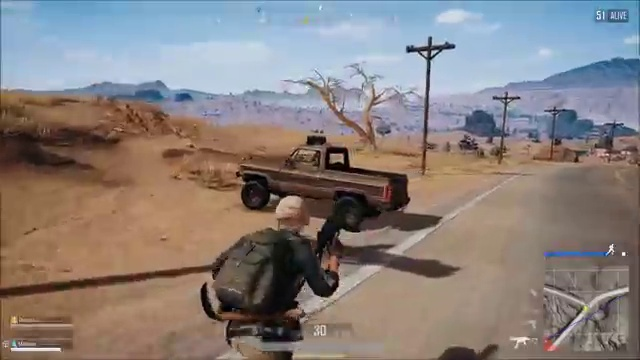Player: (186, 194, 370, 318)
